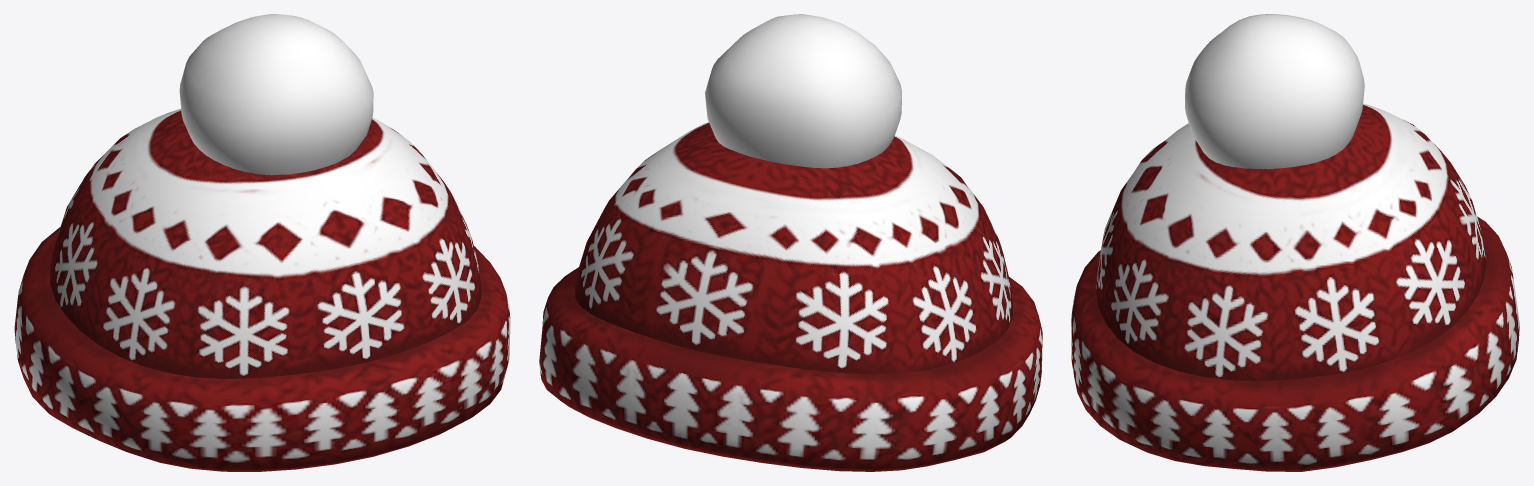
File: doodad_winter_hat.fbx
3 views of the same model, side by side, from view 1: azimuth 30°, elevation 25°; view 2: azimuth 150°, elevation 25°; view 3: azimuth 270°, elevation 25° (orthographic). The views are drawn at different scales.
Parts seen in each view (by area): view 1: doodad_winter_hat; view 2: doodad_winter_hat; view 3: doodad_winter_hat.
Part boxes in pixels (x1,y1,x2,y2): doodad_winter_hat: (14, 14, 510, 471); doodad_winter_hat: (539, 14, 1042, 471); doodad_winter_hat: (1071, 14, 1519, 471).
Bounding box in the file's own units: 0.4063 × 0.3313 × 0.3742.
